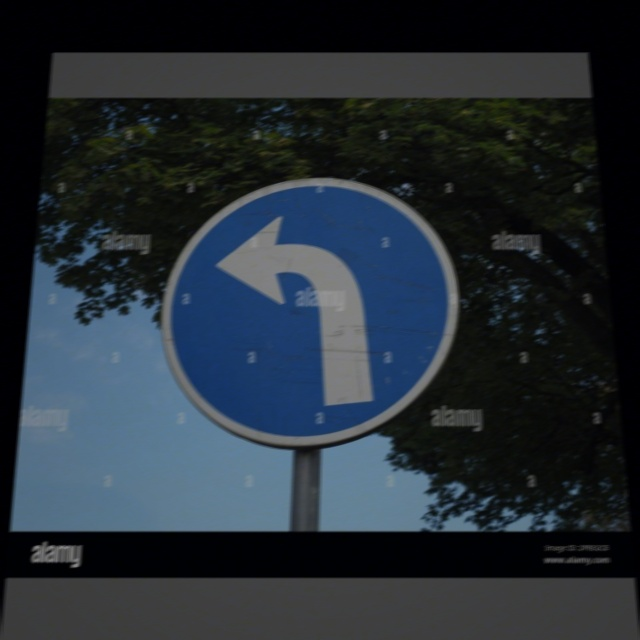Compulsory_Turn_Left_Ahead: (155, 177, 460, 452)
